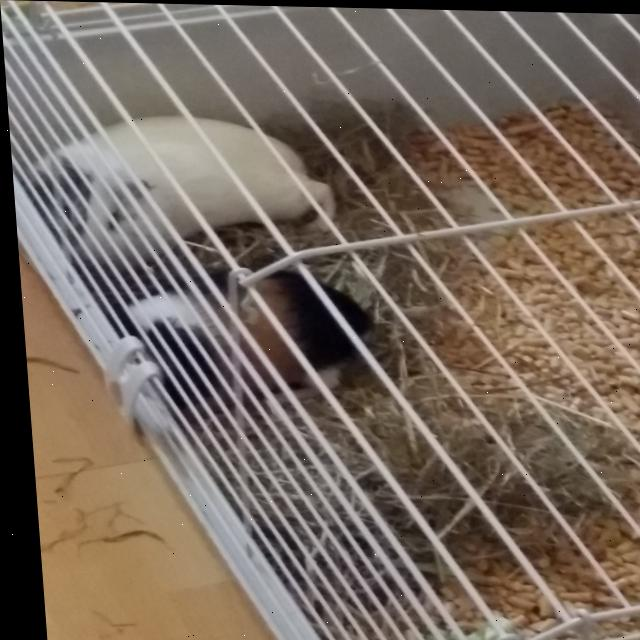guinea pig: (13, 112, 336, 265), (97, 265, 369, 419)
